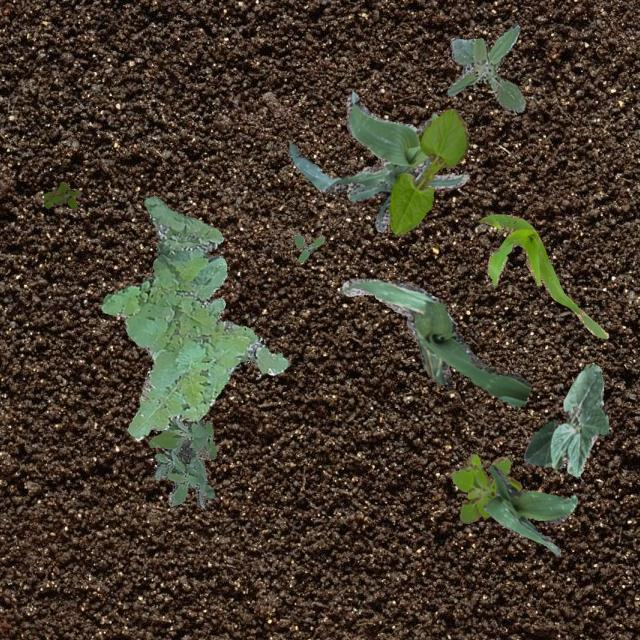crop: (288, 90, 467, 232), (340, 278, 530, 406), (477, 212, 608, 338), (388, 108, 468, 234), (522, 362, 608, 476), (482, 464, 576, 554)
weed: (100, 194, 286, 438), (446, 22, 524, 112), (147, 416, 215, 506), (450, 452, 520, 522), (42, 180, 80, 210), (292, 232, 324, 262)
